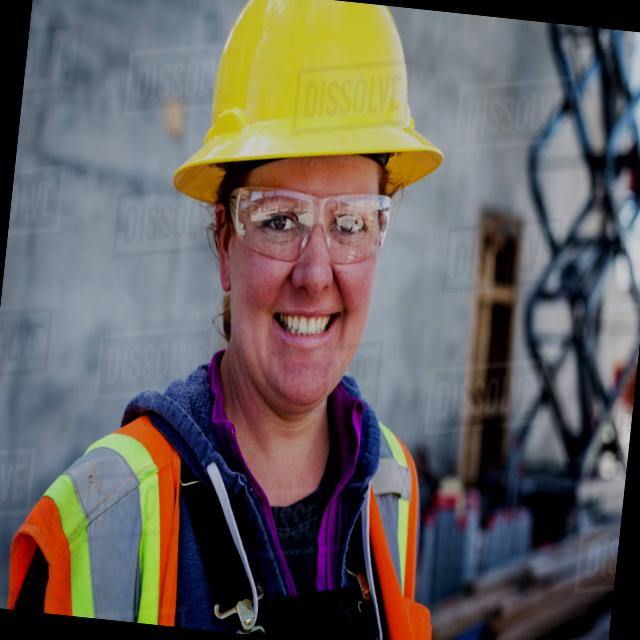goggles: (216, 175, 394, 268)
helmet: (165, 0, 461, 225)
vest: (0, 361, 452, 640)
